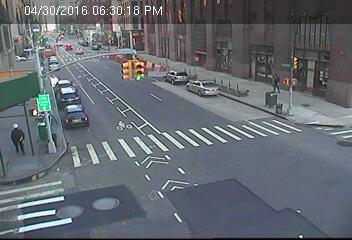neg: (31, 118, 55, 150), (55, 80, 71, 102), (273, 100, 288, 120), (183, 67, 195, 84), (114, 120, 125, 134), (291, 78, 301, 90)
pos: (3, 120, 30, 156), (270, 72, 285, 93)
